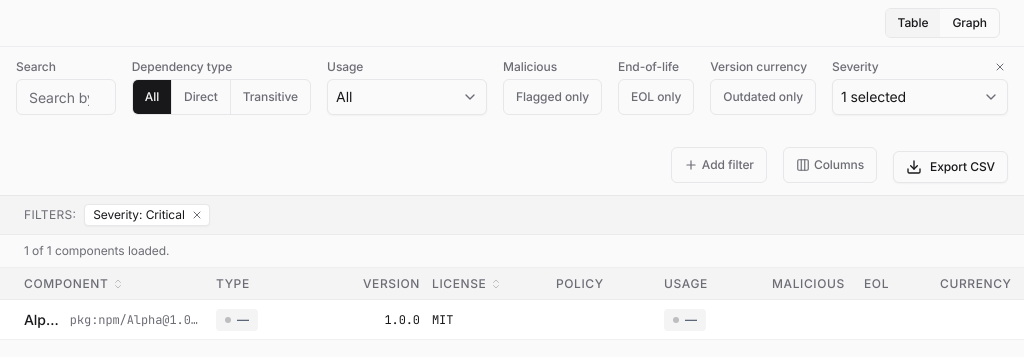
Scenario: ComponentsTab › hydrating ?severity=critical surfaces a removable chip
Expected: the number of rows with test id "component-row" is 1, [0,300,1023,340]
Click the button with test id "active-filter-chip-clear".
click(197, 215)  # box [189,207,205,223]
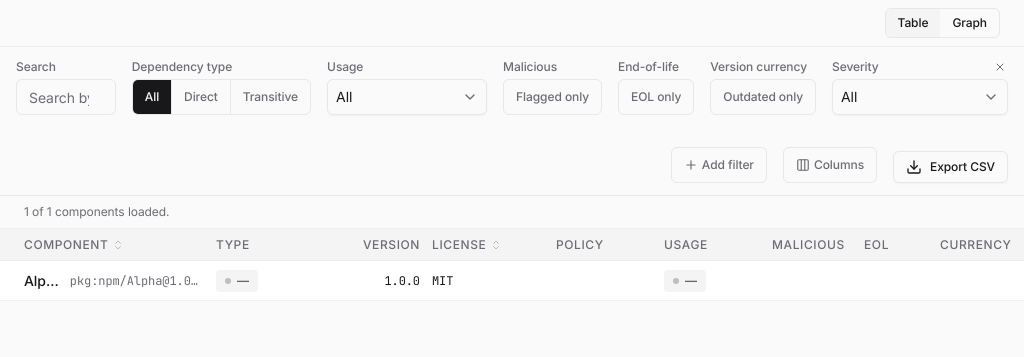
Now the element with test id "active-filter-chip" is gone
